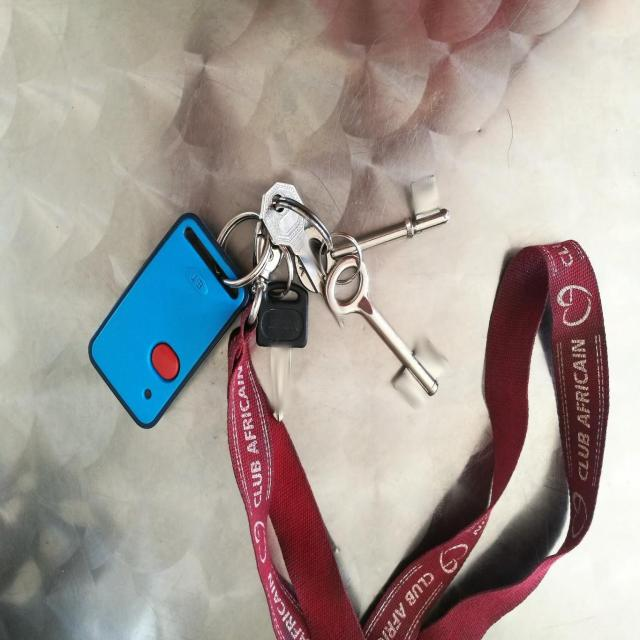Frontdoor keys: (261, 160, 448, 401)
